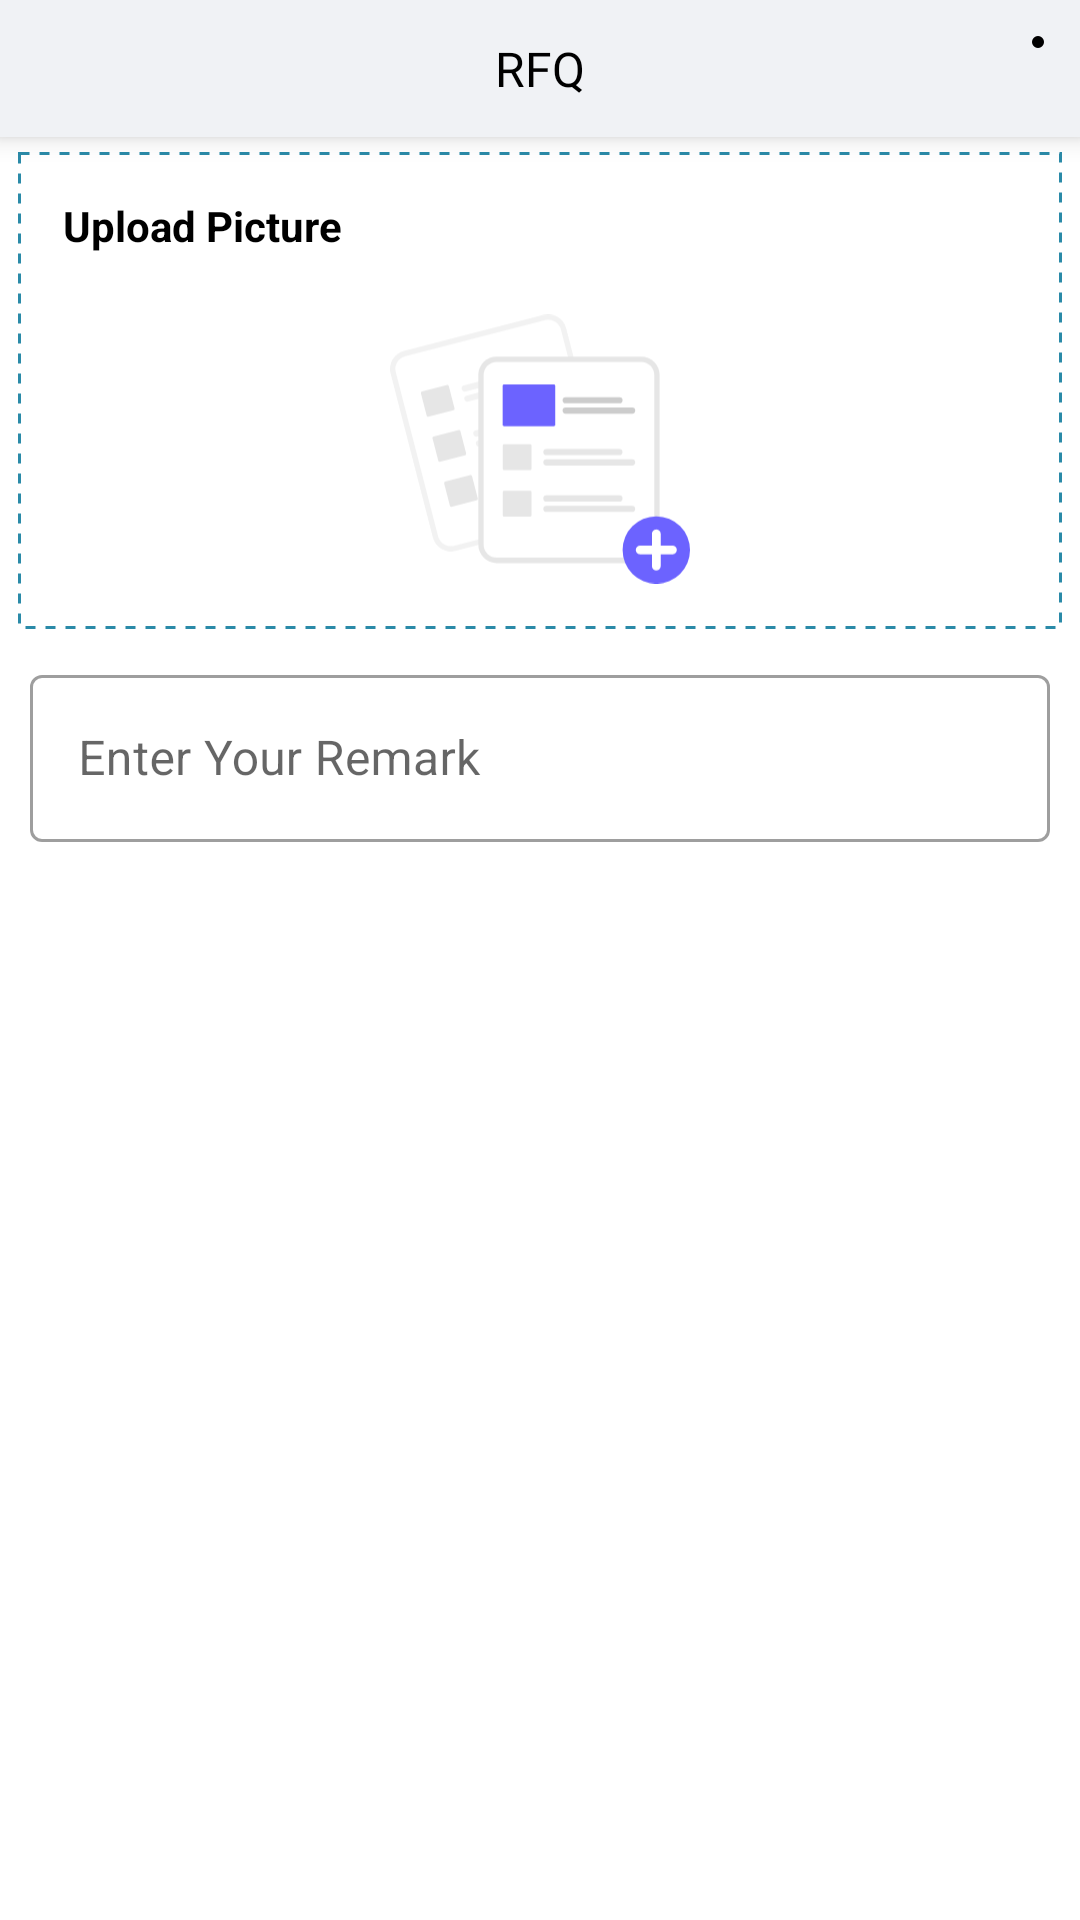

Named icons in this screenshot (1080*1920) and their centers, point (x, y):
add file: point (555, 471)
